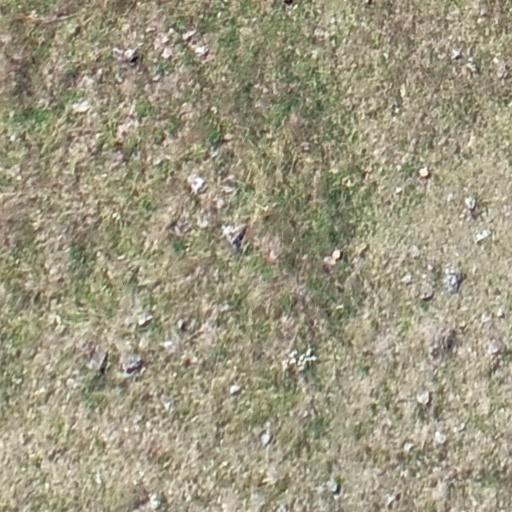stone: (223, 224, 249, 248), (121, 353, 144, 375), (88, 350, 108, 373), (321, 249, 346, 263), (415, 390, 434, 407), (420, 282, 438, 299), (326, 477, 343, 494), (190, 176, 206, 194), (123, 49, 139, 61), (464, 194, 478, 207), (176, 316, 188, 331), (434, 429, 446, 443), (260, 432, 272, 446), (418, 169, 433, 180), (452, 48, 464, 60), (495, 308, 506, 320), (229, 384, 242, 394), (162, 49, 175, 59), (403, 442, 415, 452), (394, 186, 404, 196)
